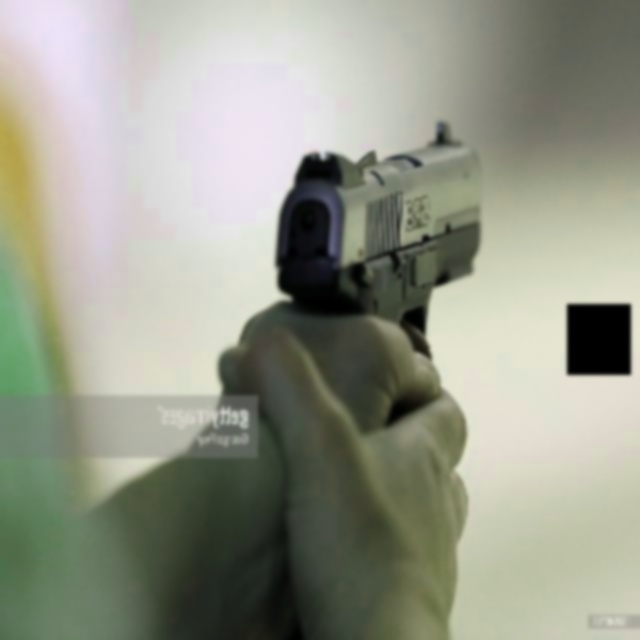gun: (274, 111, 495, 333)
